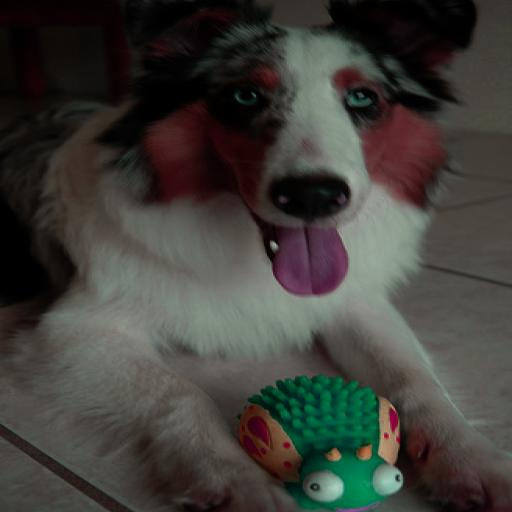dog_face: (125, 0, 473, 265)
